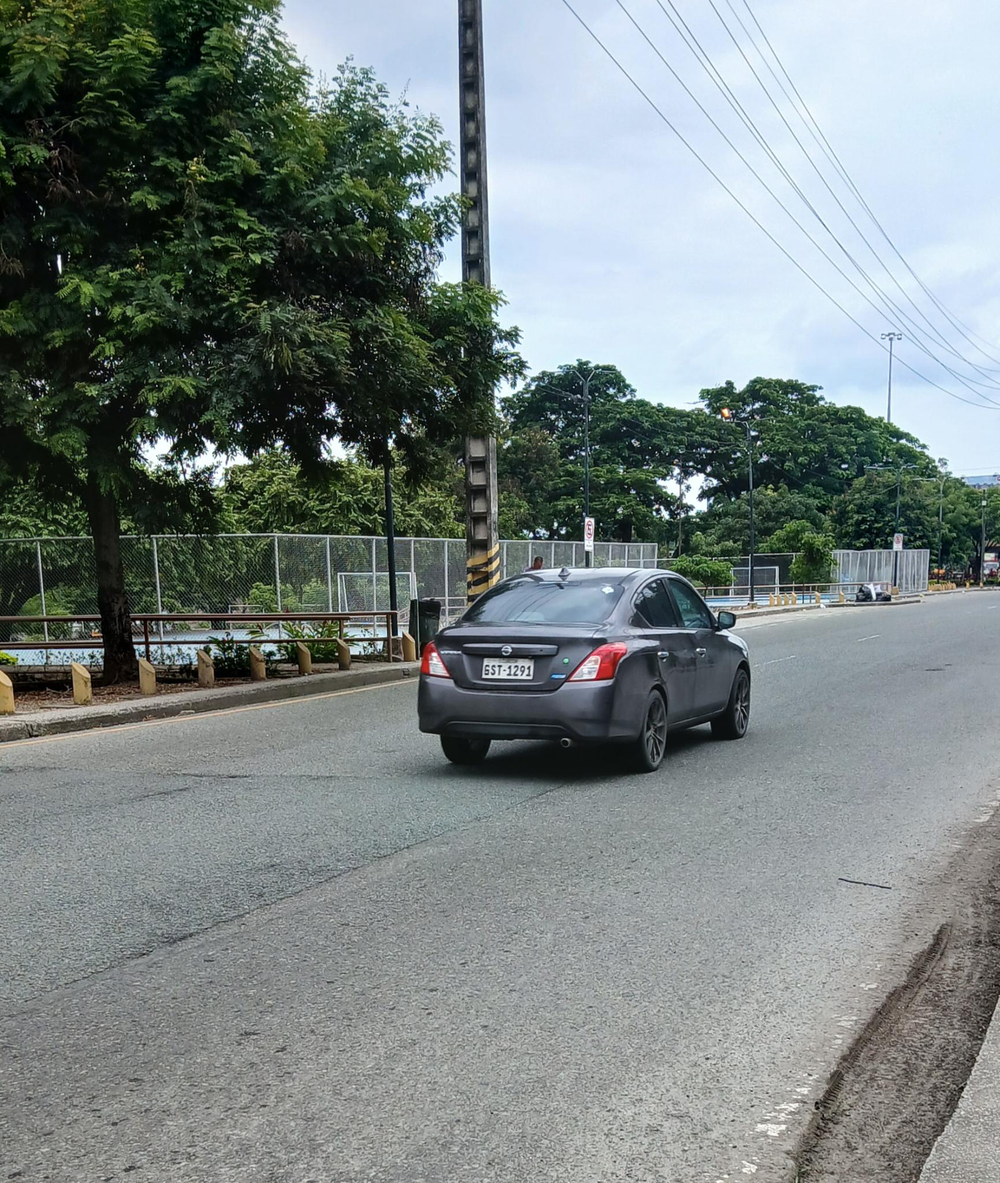license_plate: (479, 659, 534, 679)
